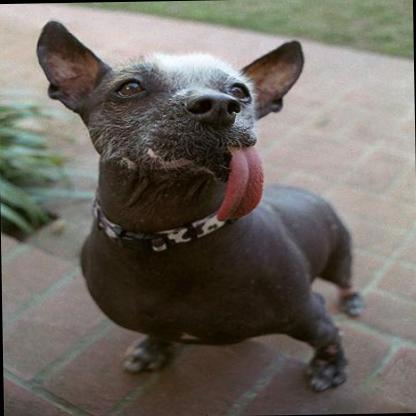Mexican_hairless: (24, 9, 380, 398)
